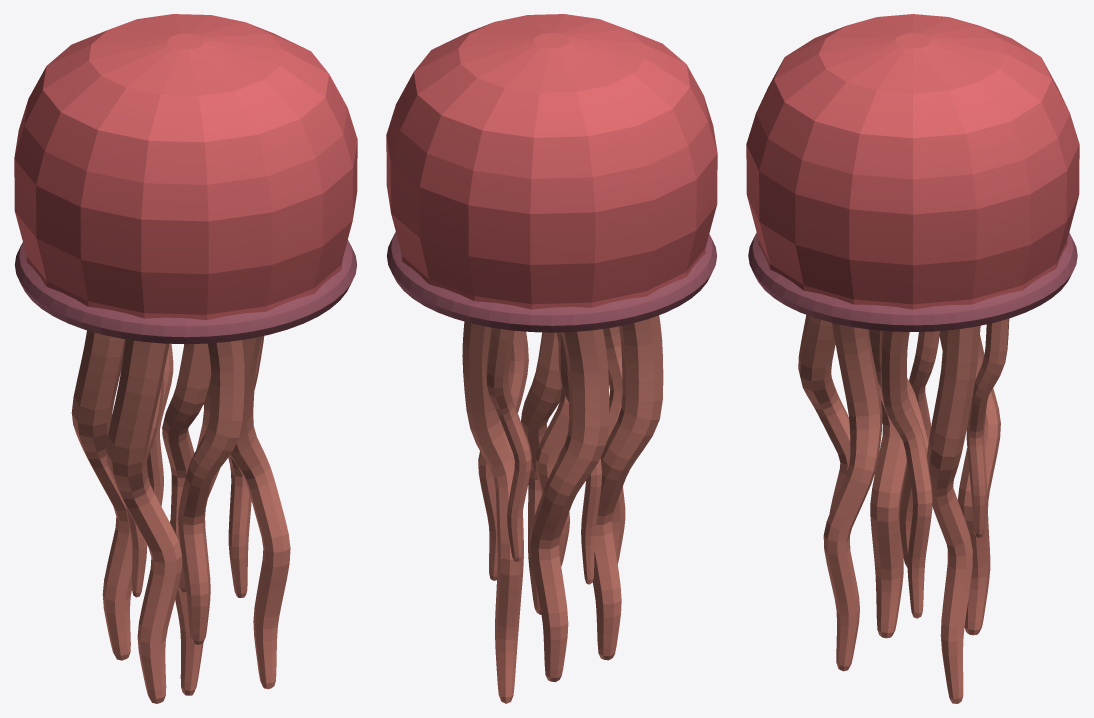
The model's file is jellyfish.glb.
The picture shows the model from 3 angles, left to right: view 1: azimuth 30°, elevation 25°; view 2: azimuth 150°, elevation 25°; view 3: azimuth 270°, elevation 25°; orthographic projection. The views are drawn at different scales.
Parts seen in each view (by area): view 1: jellyfish_merged; view 2: jellyfish_merged; view 3: jellyfish_merged.
Part boxes in pixels (x1=…): jellyfish_merged: x1=14, y1=14, x2=357, y2=703; jellyfish_merged: x1=386, y1=14, x2=717, y2=703; jellyfish_merged: x1=746, y1=14, x2=1079, y2=703.
Bounding box in the file's own units: 2.34 × 5.04 × 2.34.
Materials: 1 (1 with a texture image).
